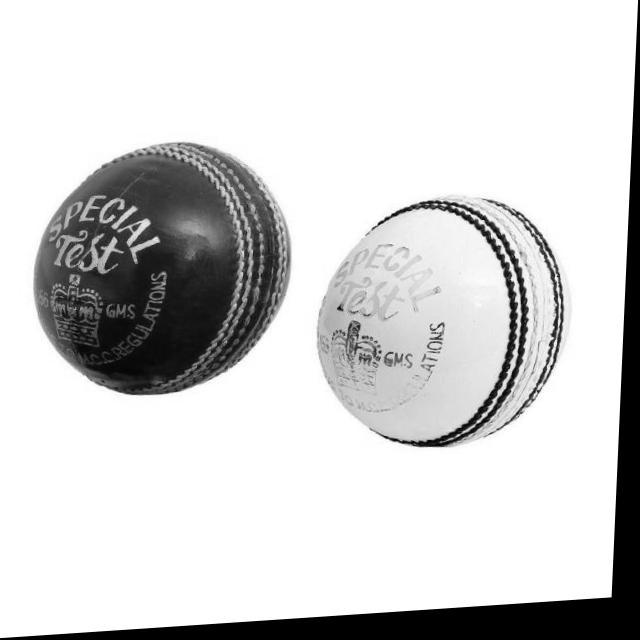cricket ball: (35, 144, 295, 398), (320, 201, 576, 457)
